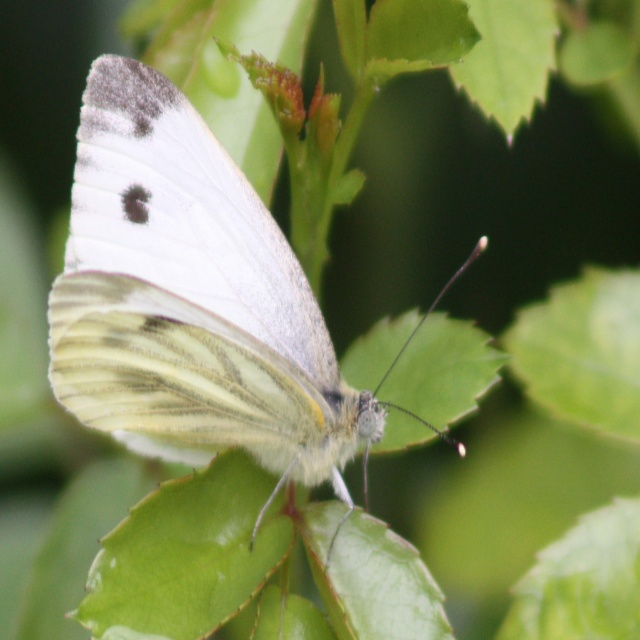Butterfly: (48, 54, 488, 594)
